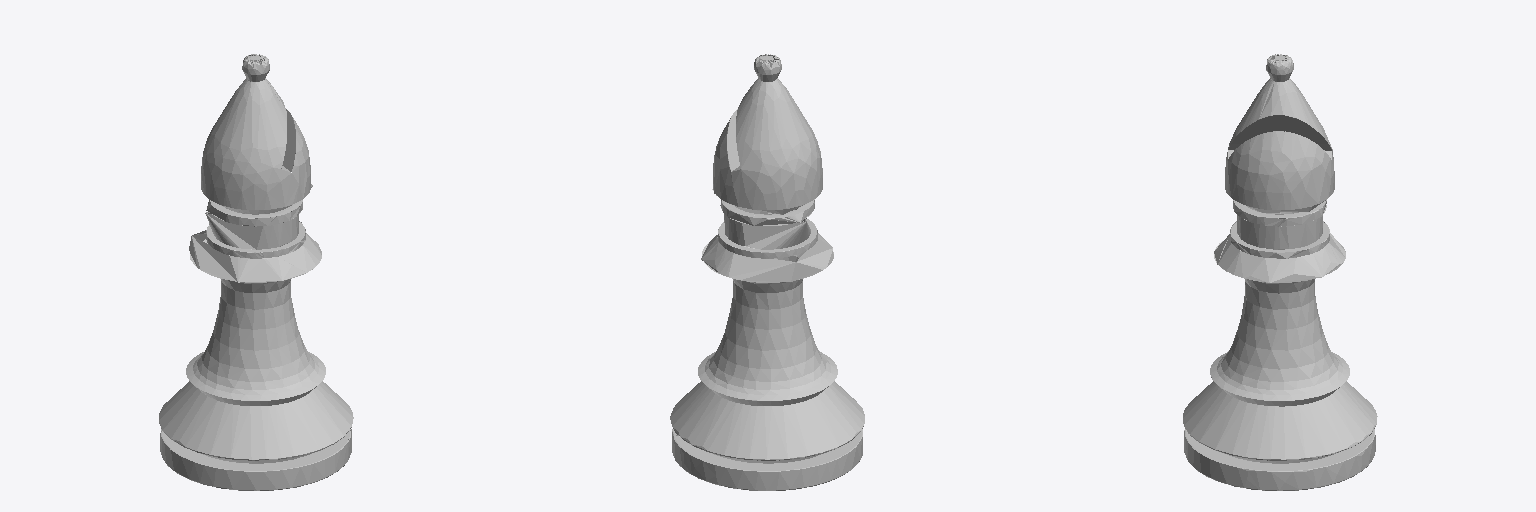
File: bishoplow - Copy.obj
3 views of the same model, side by side, from view 1: azimuth 30°, elevation 25°; view 2: azimuth 150°, elevation 25°; view 3: azimuth 270°, elevation 25° (orthographic).
Parts seen in each view (by area): view 1: Cylinder; view 2: Cylinder; view 3: Cylinder.
Boxes of the visible parts, box(x1,y1,x2,y2) form: Cylinder: box(159, 54, 353, 490); Cylinder: box(670, 54, 864, 490); Cylinder: box(1183, 54, 1377, 490).
Bounding box in the file's own units: 2.03 × 4.54 × 2.03.